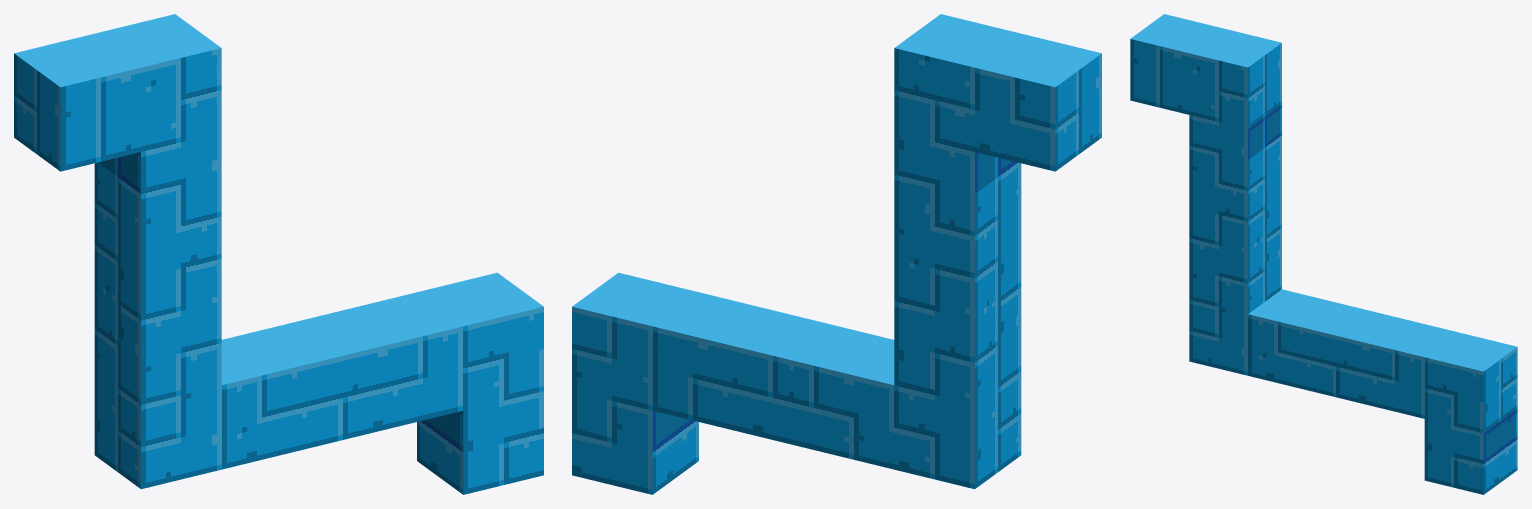
The model's file is stargate_pyramid_bao.fezao.glb.
The picture shows the model from 3 angles, left to right: view 1: azimuth 30°, elevation 25°; view 2: azimuth 150°, elevation 25°; view 3: azimuth 330°, elevation 25°; orthographic projection. The views are drawn at different scales.
Parts seen in each view (by area): view 1: STARGATE_PYRAMID_BAO; view 2: STARGATE_PYRAMID_BAO; view 3: STARGATE_PYRAMID_BAO.
Part boxes in pixels (box(x1,y1,x2,y2)): STARGATE_PYRAMID_BAO: box(14, 14, 543, 494); STARGATE_PYRAMID_BAO: box(572, 14, 1101, 494); STARGATE_PYRAMID_BAO: box(1130, 14, 1517, 494).
Size of the model in its own units: 6 by 6 by 1.
1 material, 1 textured.
